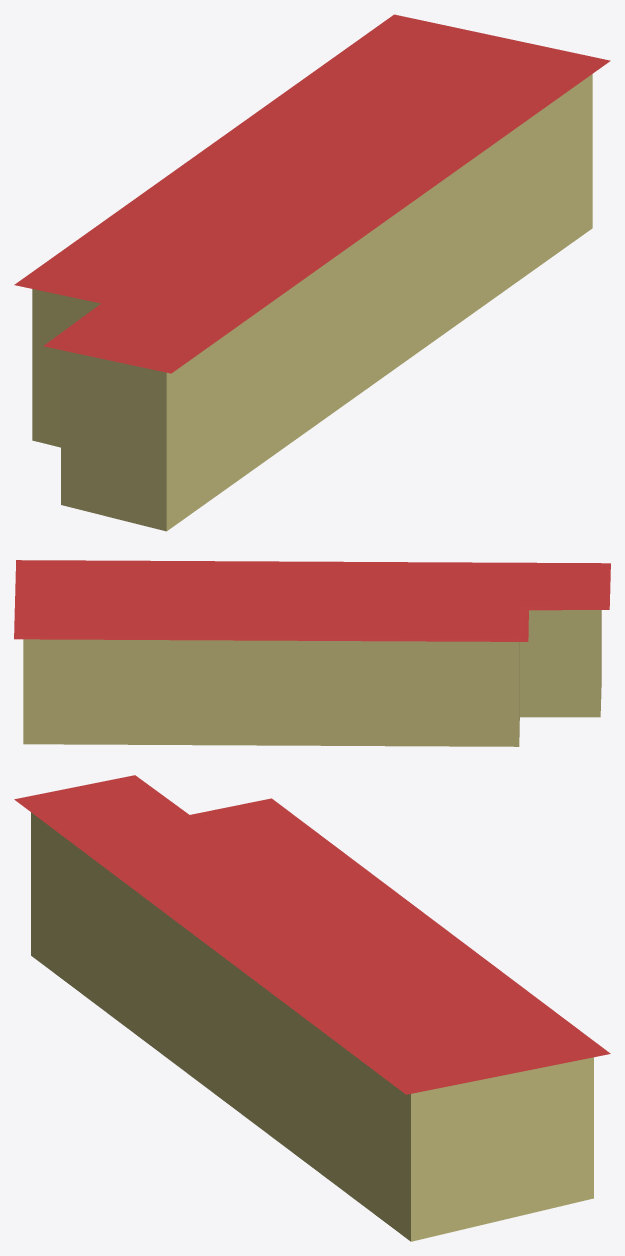
3 views of the same model, one above another, from view 1: azimuth 30°, elevation 25°; view 2: azimuth 150°, elevation 25°; view 3: azimuth 270°, elevation 25° (orthographic). The views are drawn at different scales.
Bounding box in the file's own units: 30.95 × 24.08 × 6.86.
